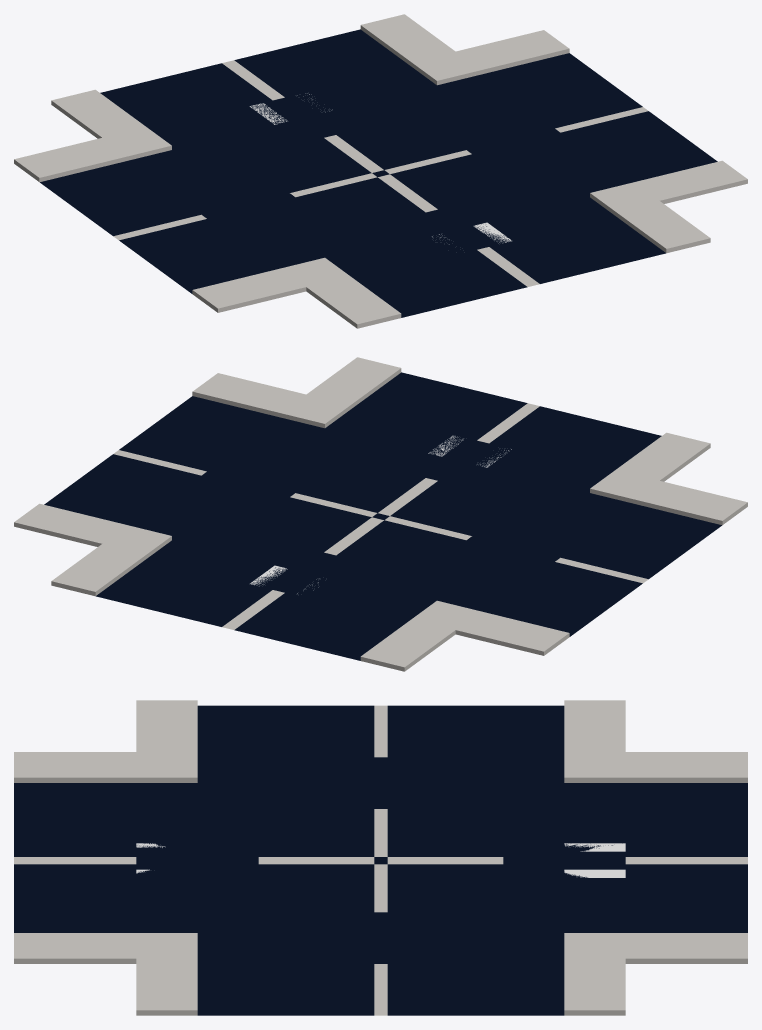
The model's file is intersection.fbx.
3 renders of one model, top to bottom at view 1: azimuth 30°, elevation 25°; view 2: azimuth 150°, elevation 25°; view 3: azimuth 270°, elevation 25°, orthographic. The views are drawn at different scales.
Parts seen in each view (by area): view 1: Plane; view 2: Plane; view 3: Plane.
Part boxes in pixels (x1,y1,x2,y2): Plane: (14, 14, 747, 328); Plane: (14, 357, 747, 671); Plane: (14, 700, 747, 1015).
Size of the model in its own units: 200 by 1.58 by 200.
